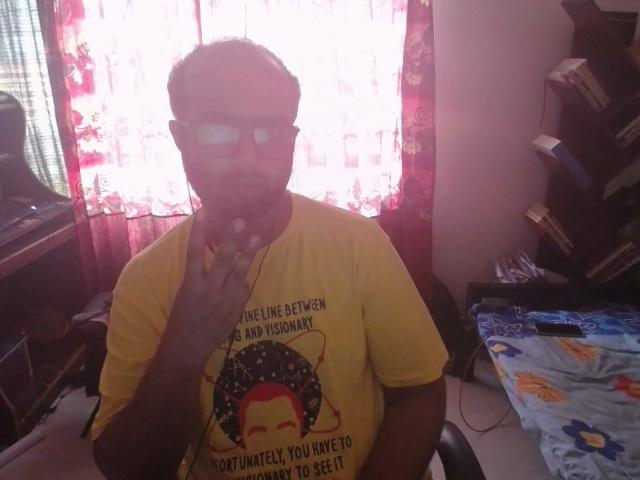three: (158, 196, 295, 345)
